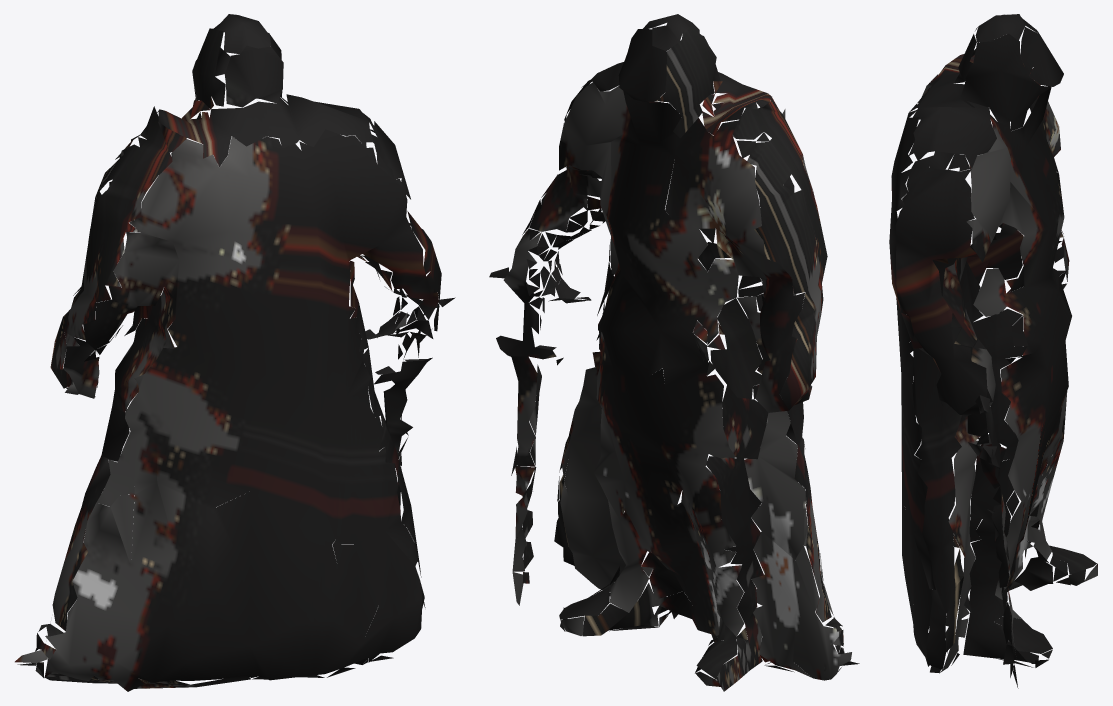
The picture shows the model from 3 angles, left to right: view 1: azimuth 30°, elevation 25°; view 2: azimuth 150°, elevation 25°; view 3: azimuth 270°, elevation 25°; orthographic projection. The views are drawn at different scales.
Visible parts, largest first — view 1: body.002; view 2: body.002; view 3: body.002.
Part boxes in pixels (left/top/right/bottom): body.002: left=15, top=14, right=455, bottom=691; body.002: left=489, top=14, right=859, bottom=691; body.002: left=889, top=14, right=1097, bottom=688.
Size of the model in its own units: 1.35 by 2 by 0.6221.
1 material, 1 textured.
